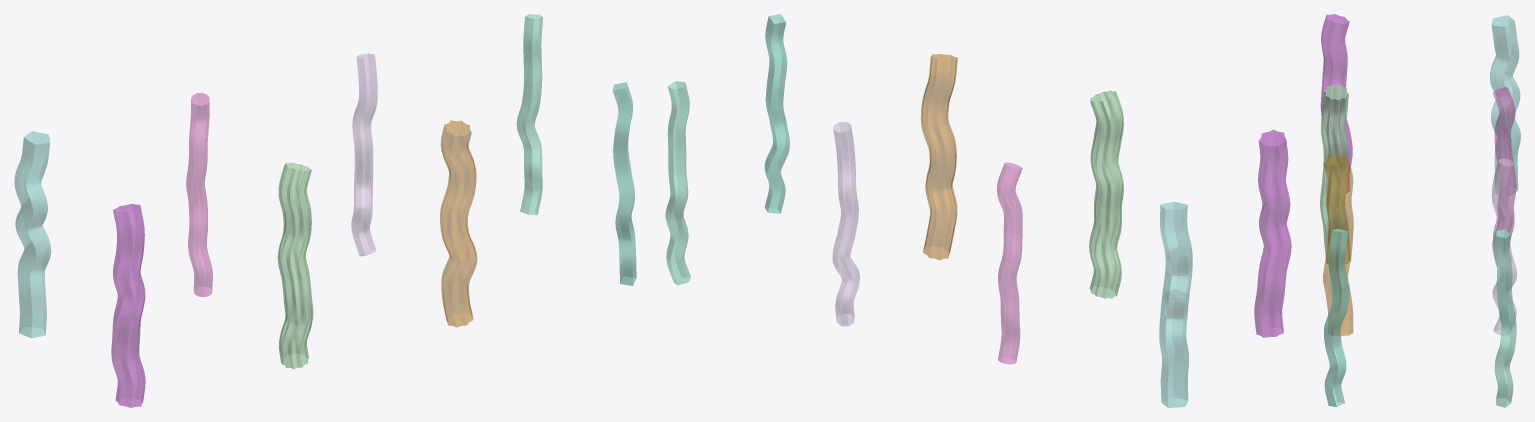
Rendered from Lambert Flat Transparent_Opened Spline_2023-07-23-20-47-44.gltf.
3 renders of one model, left to right at view 1: azimuth 30°, elevation 25°; view 2: azimuth 150°, elevation 25°; view 3: azimuth 270°, elevation 25°, orthographic. The views are drawn at different scales.
Size of the model in its own units: 633 by 233 by 240.
